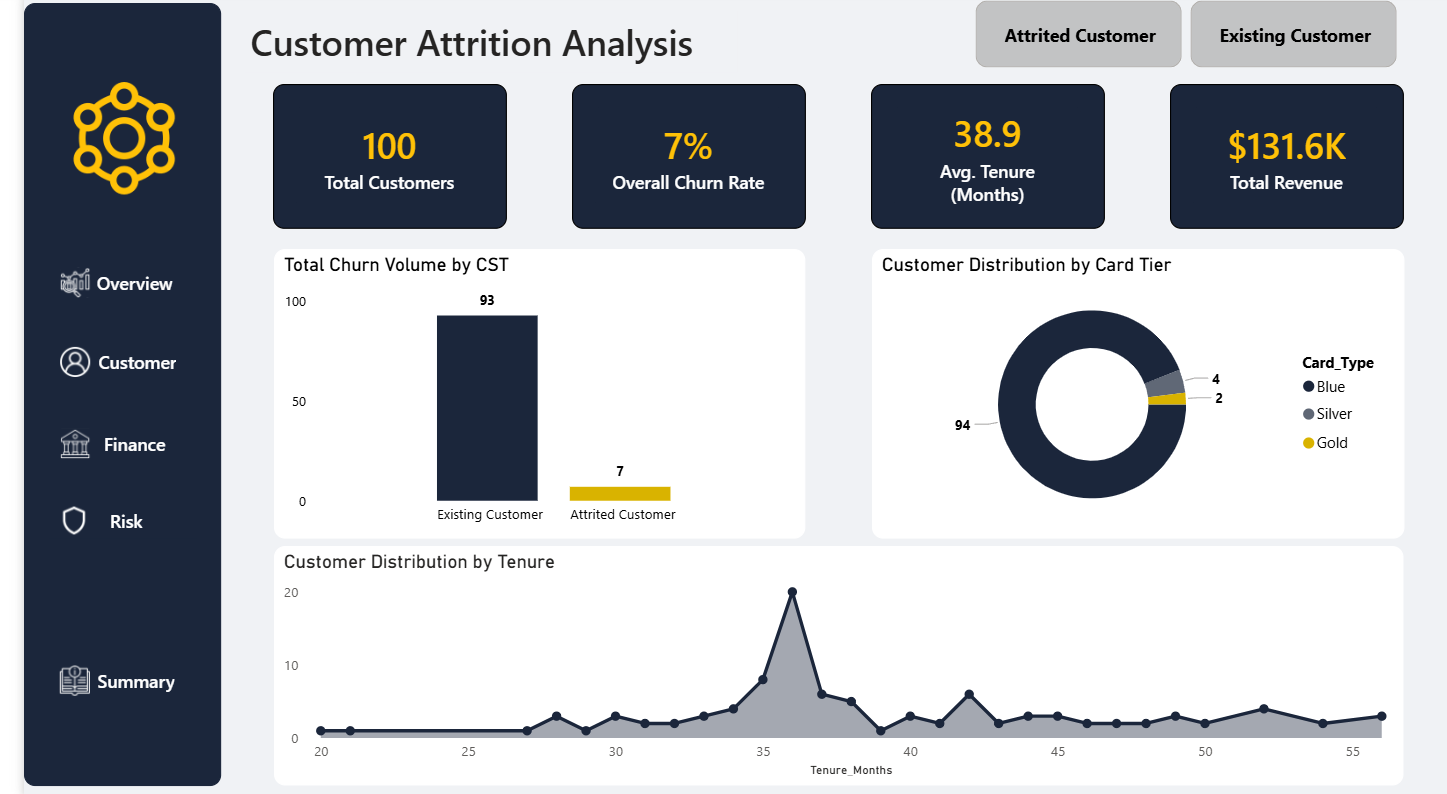

The page's visual inventory and layout, read from the dashboard file:
{"tool":"powerbi","page":{"name":"Overview","canvas":[1280,720],"ordinal":0},"visuals":[{"type":"textbox","box":[198.2,14.5,441.8,55.5],"z":0},{"type":"shape","box":[0,7,177,703],"z":1000},{"type":"actionButton","box":[25,597,135,37],"z":2000},{"type":"image","box":[4.5,78.2,171.8,100.9],"z":3000},{"type":"actionButton","box":[22.4,237.9,132.9,40.4],"z":4000},{"type":"actionButton","box":[22.4,308.2,132.9,43.1],"z":5000},{"type":"actionButton","box":[22.4,454.3,132.9,34.1],"z":6000},{"type":"cardVisual","title":"Total Customers","fields":{"Data":["CountNonNull(Credit_Limits.Customer_ID)"]},"box":[223.6,80,210,130],"z":7000},{"type":"cardVisual","title":"Total Customers","fields":{"Data":["Overall_Churn.Churn_Rate_Final"]},"box":[492.1,80,210,130],"z":8000},{"type":"cardVisual","title":"Total Customers","fields":{"Data":["Avg(View_Monthly_Transaction_Trend.Tenure_Months)"]},"box":[760.6,80,210,130],"z":9000},{"type":"cardVisual","title":"Total Customers","fields":{"Data":["Sum(View_Monthly_Transaction_Trend.Sum_Transaction_Value)"]},"box":[1029.1,80,210,130],"z":10000},{"type":"areaChart","title":"Customer Distribution by Tenure","fields":{"Category":["Bank_Activity.Tenure_Months"],"Y":["CountNonNull(Bank_Activity.Customer_ID)"]},"box":[224.4,494.7,1013.6,215.5],"z":11000},{"type":"donutChart","title":"Customer Distribution by Card Tier","fields":{"Category":["Bank_Activity.Card_Type"],"Y":["CountNonNull(Bank_Activity.Customer_ID)"]},"box":[760.9,228.2,478.2,260],"z":12000},{"type":"clusteredColumnChart","title":"Total Churn Volume by CST","fields":{"Category":["Bank_Activity.Churn_Status"],"Y":["CountNonNull(Customer.Customer_ID)"]},"box":[224.5,228.2,477.3,260],"z":13000},{"type":"advancedSlicerVisual","fields":{"Values":["Bank_Activity.Churn_Status"]},"box":[849.1,0,389.1,70],"z":14000},{"type":"actionButton","box":[22.4,381.2,132.9,43.1],"z":16000},{"type":"textbox","box":[760.4,509.9,268.4,44.9],"z":16001}]}

Visuals, with their boxes in screenshot pixels (x1, y1, x2, y2), scaled from the page's 1280x720 canvas onto the 1447x794 screenshot:
textbox: pyautogui.locateOnScreen(224, 16, 724, 77)
shape: pyautogui.locateOnScreen(0, 8, 200, 783)
actionButton: pyautogui.locateOnScreen(28, 658, 181, 699)
image: pyautogui.locateOnScreen(5, 86, 199, 198)
actionButton: pyautogui.locateOnScreen(25, 262, 176, 307)
actionButton: pyautogui.locateOnScreen(25, 340, 176, 387)
actionButton: pyautogui.locateOnScreen(25, 501, 176, 539)
"Total Customers" cardVisual: pyautogui.locateOnScreen(253, 88, 490, 232)
"Total Customers" cardVisual: pyautogui.locateOnScreen(556, 88, 794, 232)
"Total Customers" cardVisual: pyautogui.locateOnScreen(860, 88, 1097, 232)
"Total Customers" cardVisual: pyautogui.locateOnScreen(1163, 88, 1401, 232)
"Customer Distribution by Tenure" areaChart: pyautogui.locateOnScreen(254, 546, 1400, 783)
"Customer Distribution by Card Tier" donutChart: pyautogui.locateOnScreen(860, 252, 1401, 538)
"Total Churn Volume by CST" clusteredColumnChart: pyautogui.locateOnScreen(254, 252, 793, 538)
advancedSlicerVisual - Bank_Activity.Churn_Status: pyautogui.locateOnScreen(960, 0, 1400, 77)
actionButton: pyautogui.locateOnScreen(25, 420, 176, 468)
textbox: pyautogui.locateOnScreen(860, 562, 1163, 612)
